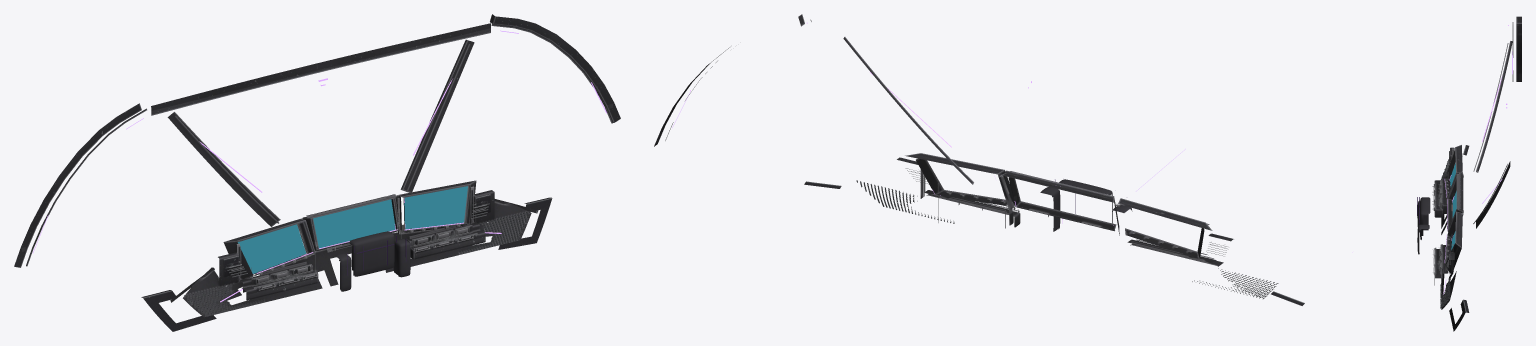
Rendered from cockpit_hayalet.glb.
3 renders of one model, left to right at view 1: azimuth 30°, elevation 25°; view 2: azimuth 150°, elevation 25°; view 3: azimuth 270°, elevation 25°, orthographic. The views are drawn at different scales.
Visible parts, largest first — view 1: LOD0_body, SCR_RADAR, SCR_HULL, SCR_SYS, LOD0_emit; view 2: LOD0_body; view 3: LOD0_body, LOD0_emit.
Part boxes in pixels (box(x1,y1,x2,y2)): LOD0_body: box(14, 14, 620, 331); SCR_RADAR: box(313, 199, 395, 248); SCR_HULL: box(404, 186, 467, 229); SCR_SYS: box(237, 224, 306, 273); LOD0_emit: box(32, 30, 606, 302); LOD0_body: box(654, 14, 1304, 305); LOD0_body: box(1417, 16, 1521, 331); LOD0_emit: box(1443, 25, 1512, 294).
Size of the model in its own units: 4.82 by 1.52 by 0.859.
3 materials, 1 textured.
